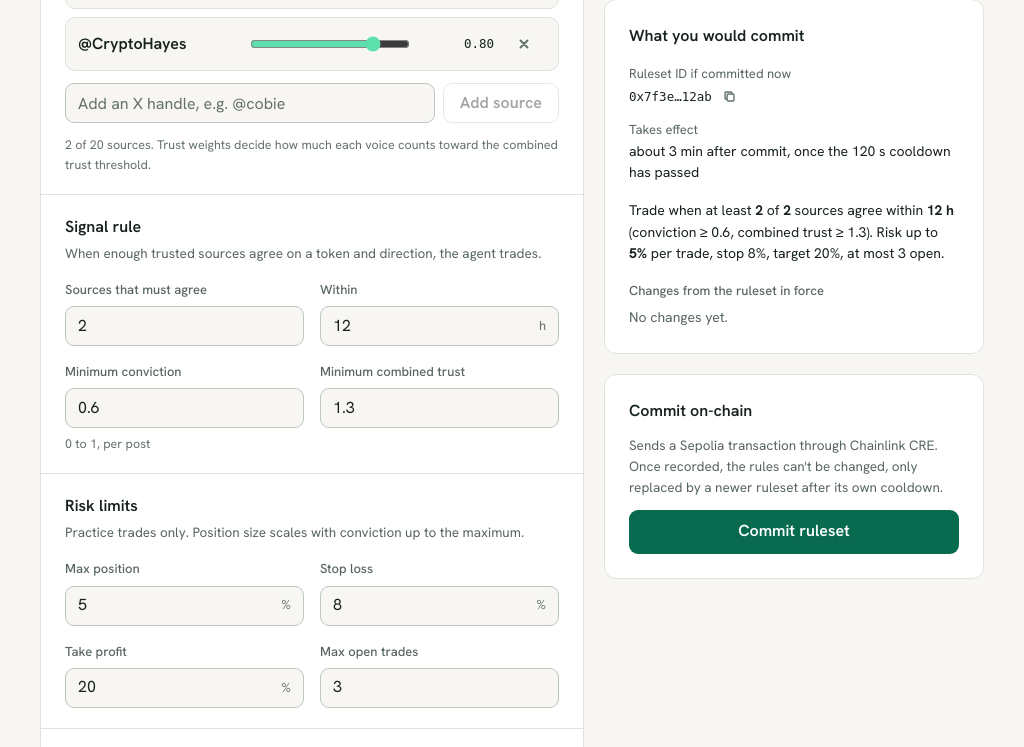
Test case: Compose › commits with the session's token and tracks the commit until it is on-chain
The width and height of the screenshot is (1024, 747).
(page scrolled)
Click the button "Commit ruleset" at (794, 531), box [629, 509, 959, 553]
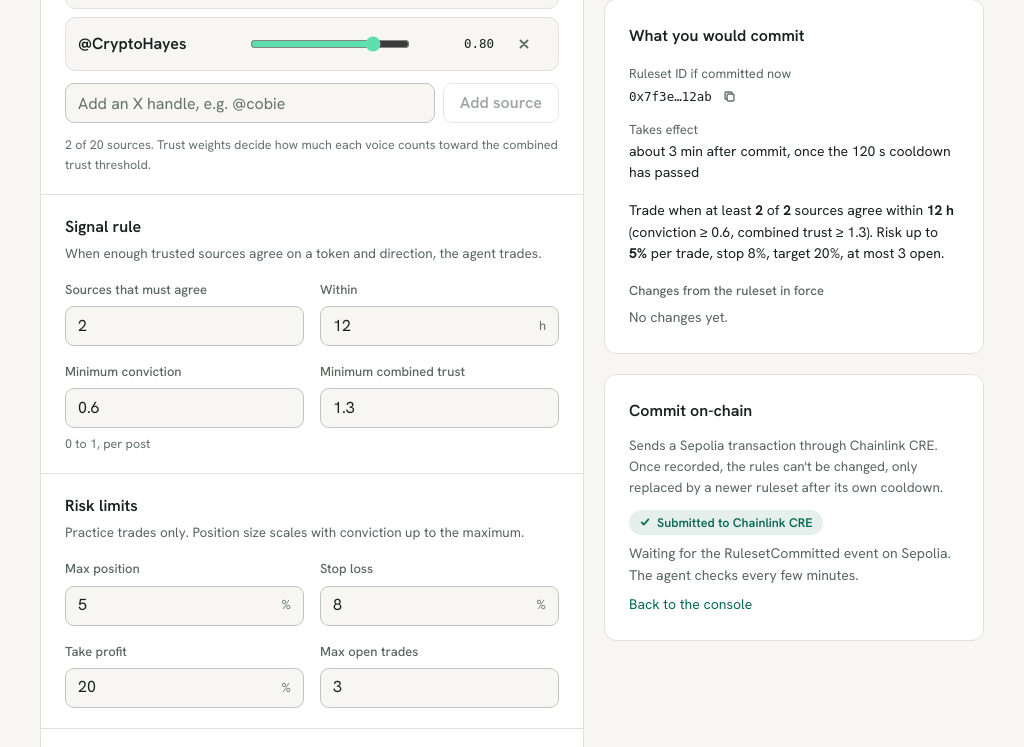
Result: the text "Submitted to Chainlink CRE" is shown at [629, 509, 822, 535]
Result: the text "Waiting for the RulesetCommitted event" is shown at [629, 544, 951, 583]
